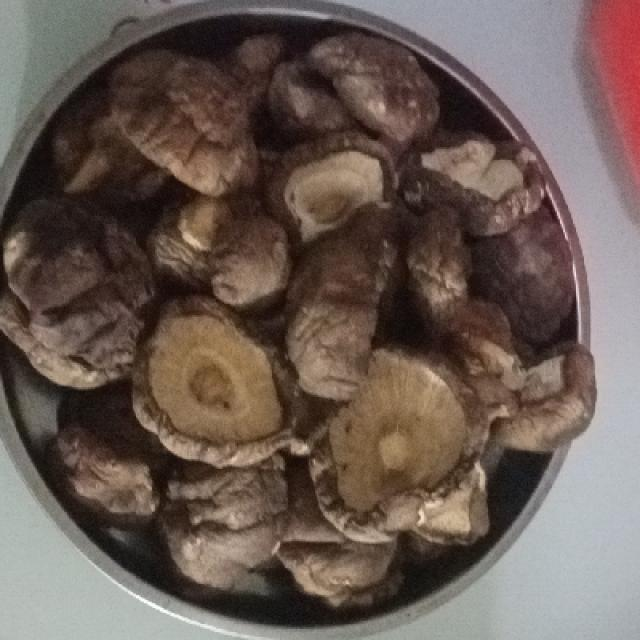Lentinus edodes: (15, 29, 599, 602)
